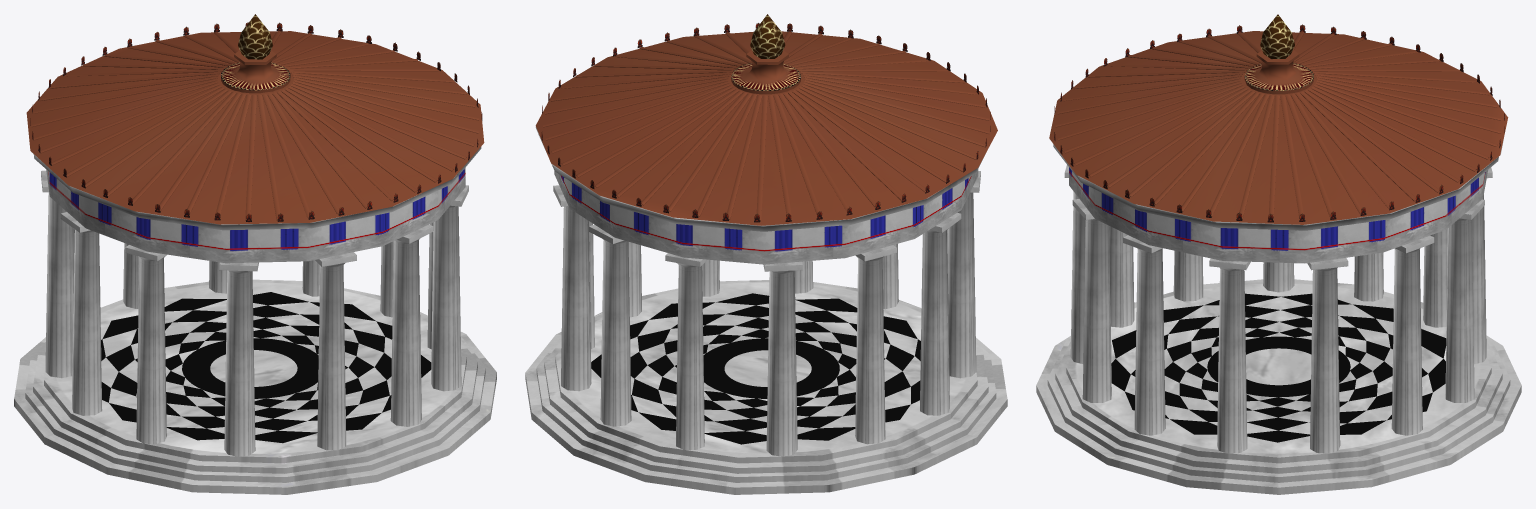
File: Delphinion_Monopteros.glb
The picture shows the model from 3 angles, left to right: view 1: azimuth 30°, elevation 25°; view 2: azimuth 150°, elevation 25°; view 3: azimuth 270°, elevation 25°; orthographic projection.
Visible parts, largest first — view 1: Delfinio_Main002; view 2: Delfinio_Main002; view 3: Delfinio_Main002.
Boxes of the visible parts, x1,y1,x2,y2 form: Delfinio_Main002: (14,14,496,494); Delfinio_Main002: (525,14,1007,494); Delfinio_Main002: (1036,14,1521,494).
Bounding box in the file's own units: 12.92 × 11.11 × 12.92.
Materials: 10 (9 with a texture image).
